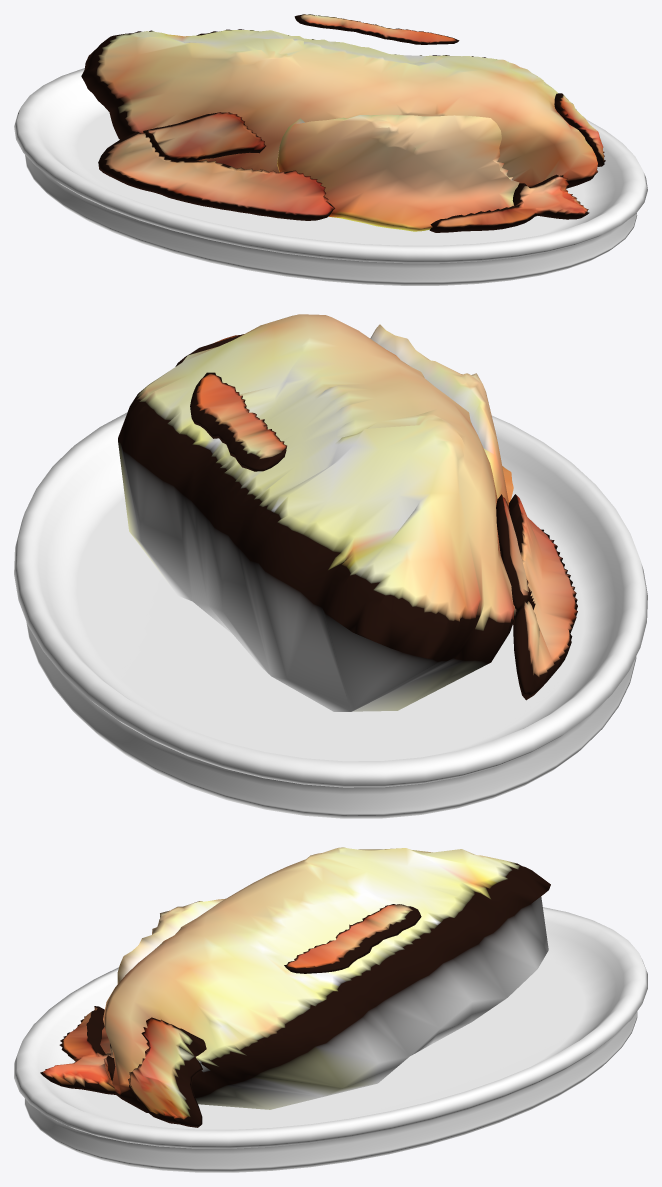
File: SM_duck.fbx
3 renders of one model, top to bottom at view 1: azimuth 30°, elevation 25°; view 2: azimuth 150°, elevation 25°; view 3: azimuth 270°, elevation 25°, orthographic. The views are drawn at different scales.
Visible parts, largest first — view 1: SM_duck; view 2: SM_duck; view 3: SM_duck.
Part boxes in pixels (box(x1,y1,x2,y2)): SM_duck: box(14, 14, 647, 285); SM_duck: box(14, 314, 647, 818); SM_duck: box(14, 847, 647, 1172).
Bounding box in the file's own units: 0.2405 × 0.0789 × 0.2692.
